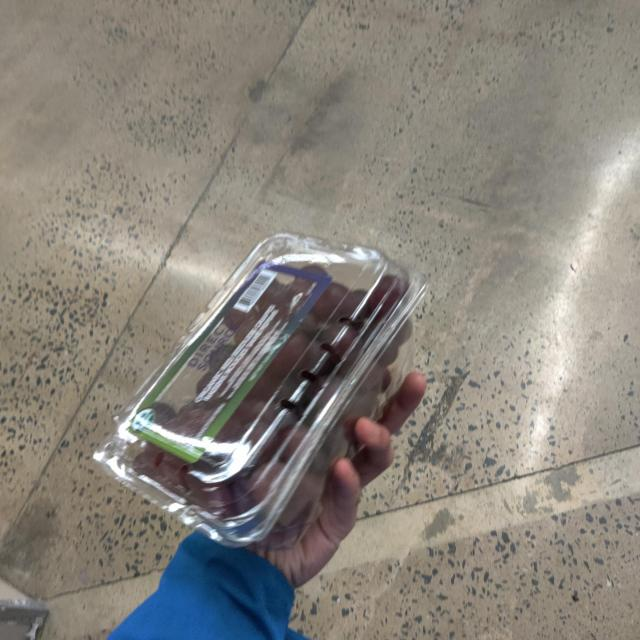Grapes: (109, 236, 430, 549)
